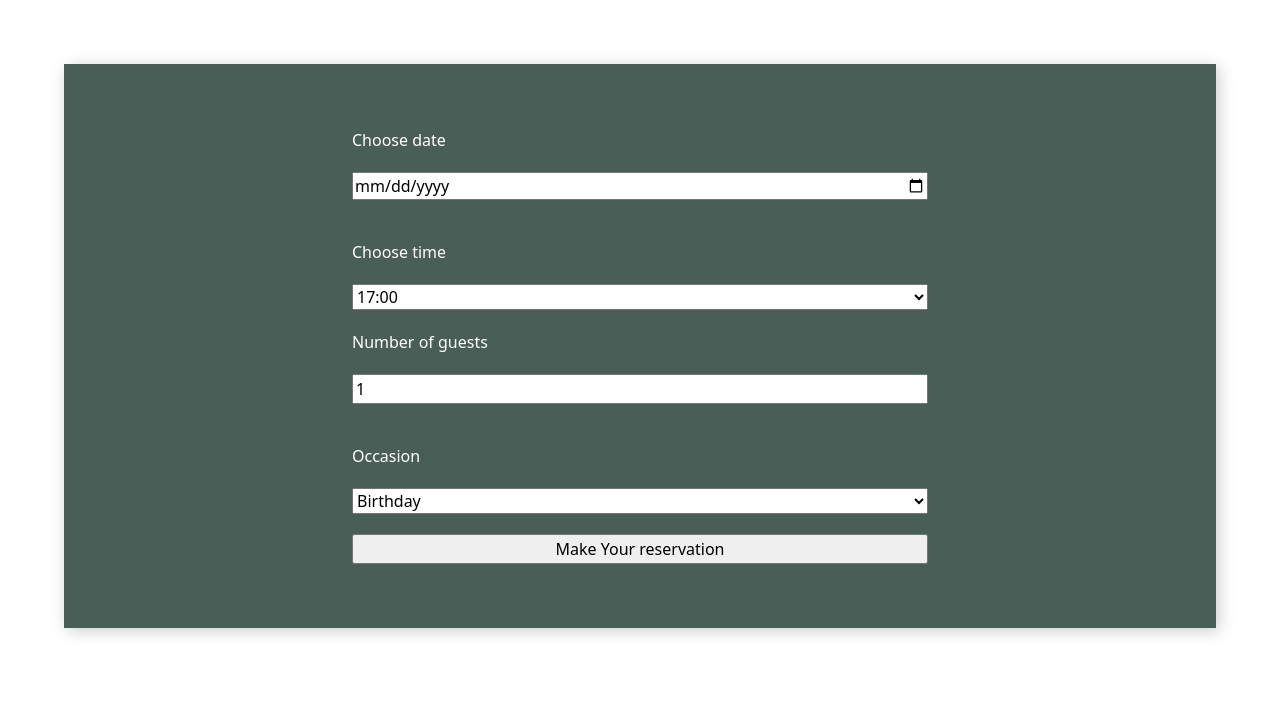
Test: booking form › Test validation
The image size is (1280, 720).
Click the button "Make Your reservation" at (640, 549), box [352,534,928,564]
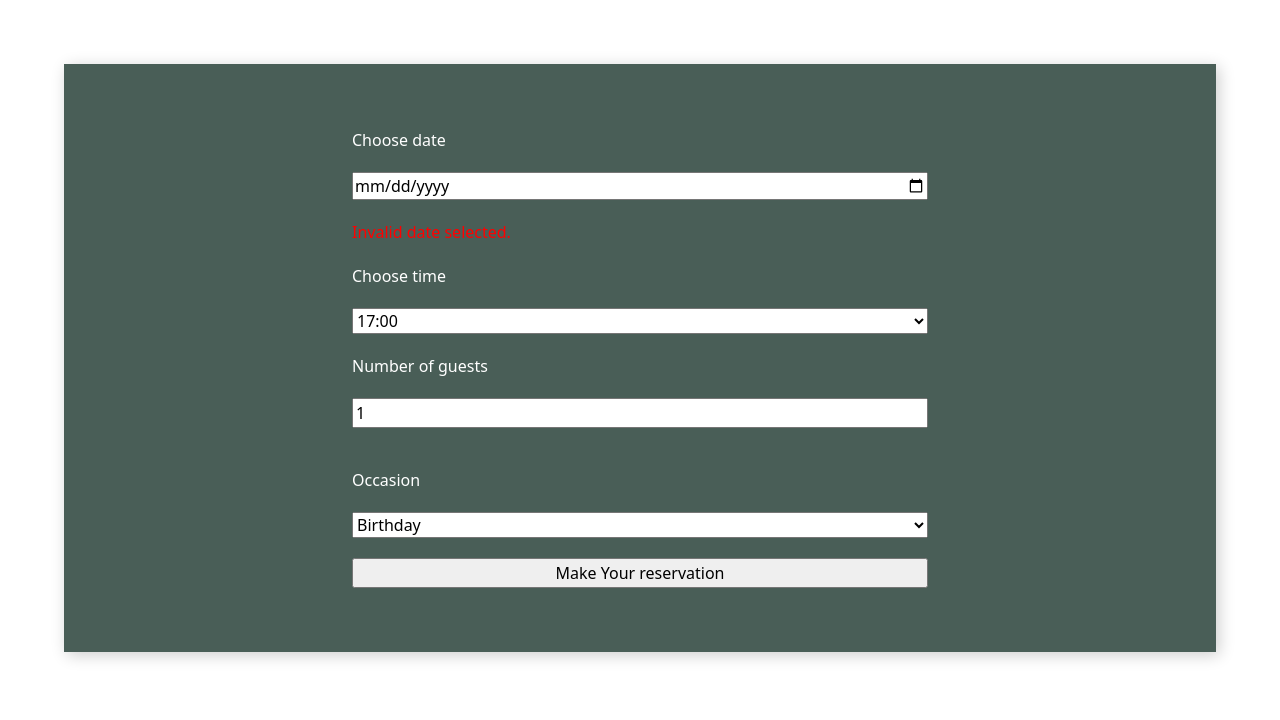
Check: the text "Invalid date selected." is shown, box [352,221,511,243]
